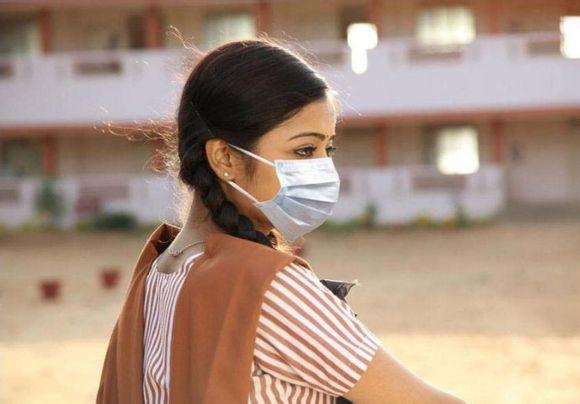OK: (225, 119, 344, 238)
